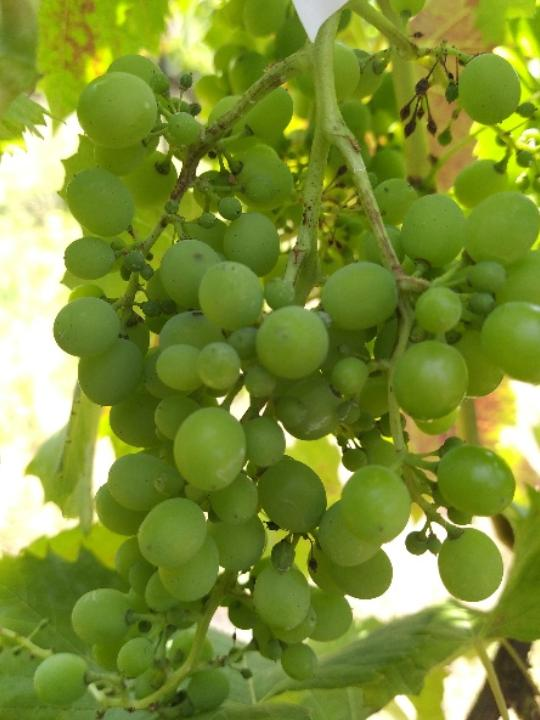grape: (26, 0, 540, 720)
